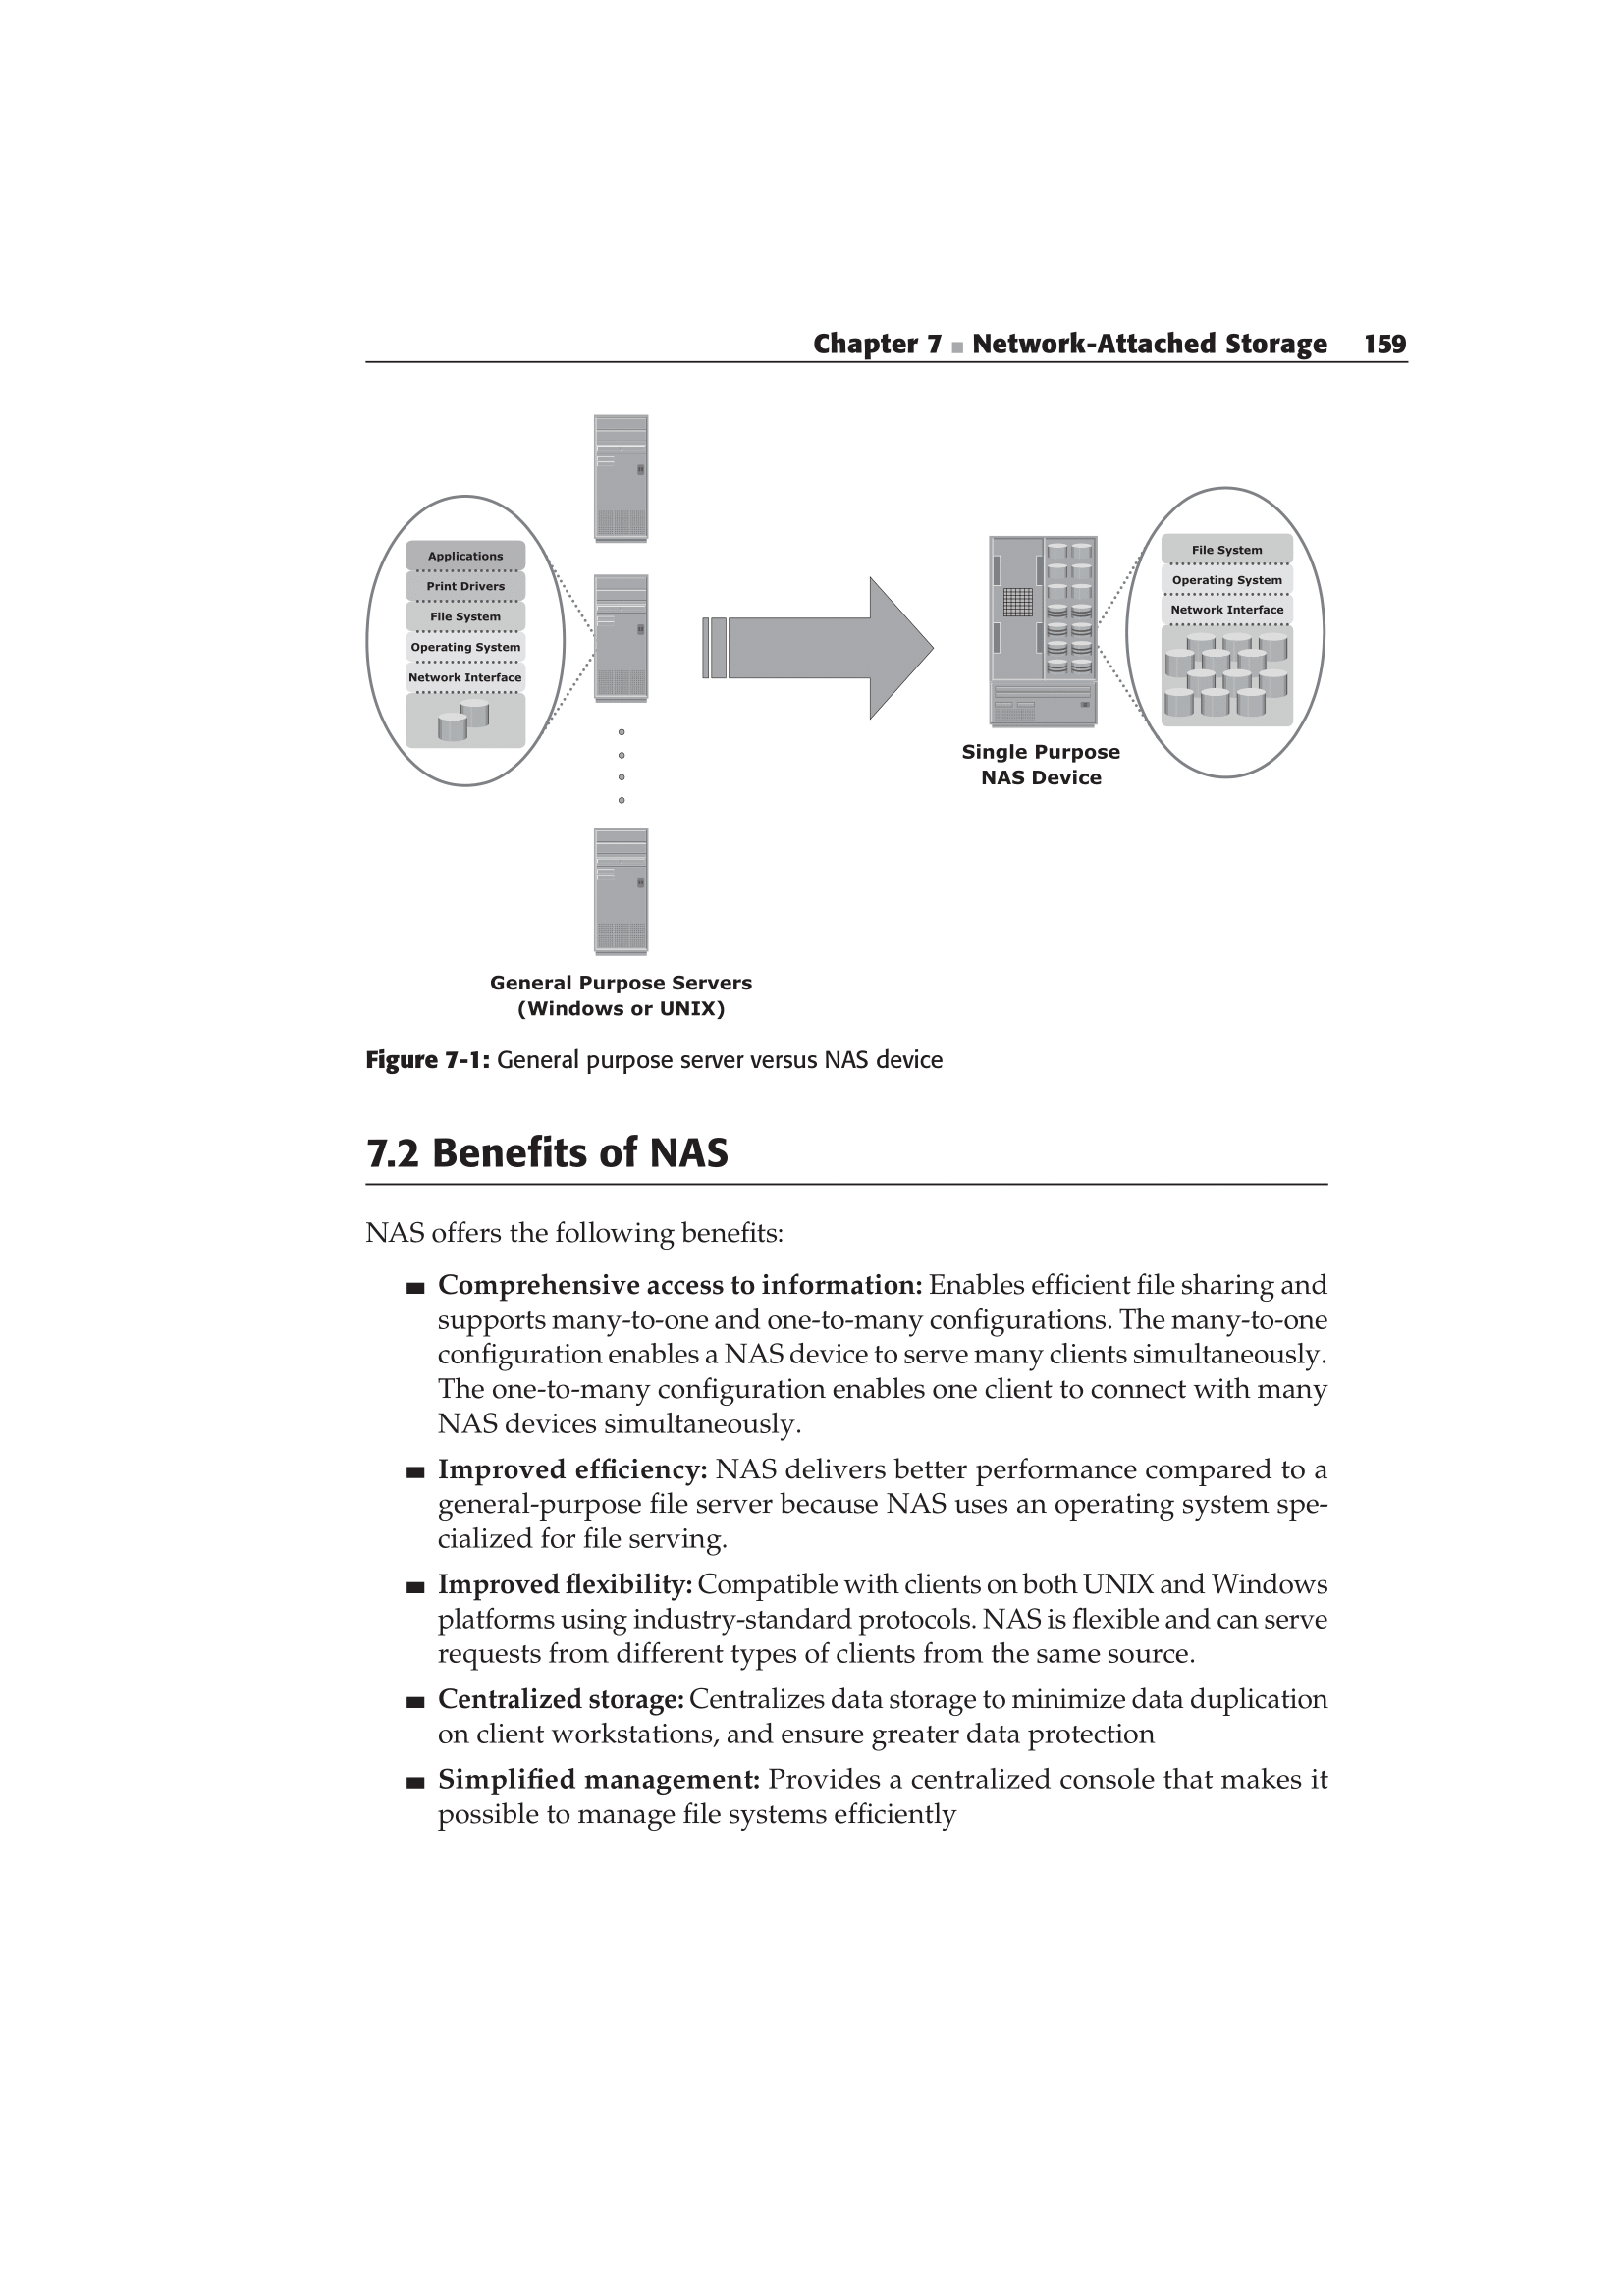Image: (357, 393, 1342, 1027)
Paragraph: (429, 1260, 1342, 1443), (425, 1443, 1351, 1566), (420, 1571, 1351, 1685), (429, 1766, 1361, 1848), (429, 1680, 1370, 1757), (348, 1032, 973, 1090), (803, 305, 1447, 356), (360, 1192, 822, 1252), (357, 1136, 768, 1187)
